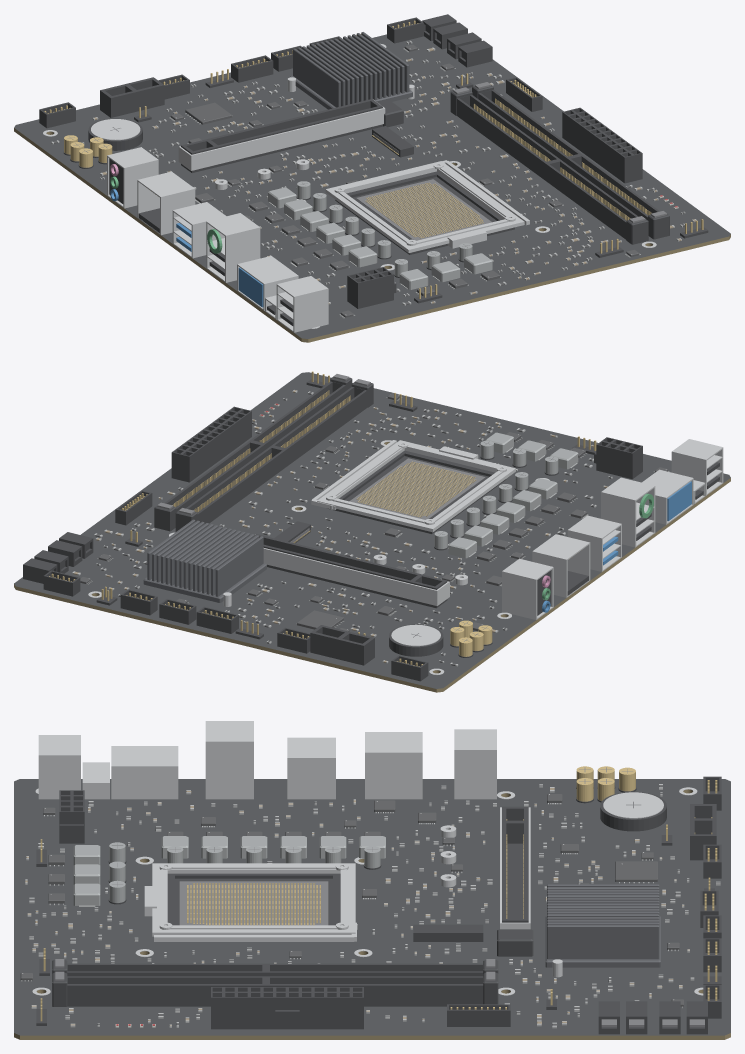
The model's file is L130_CompleteMotherboard.glb.
3 views of the same model, one above another, from view 1: azimuth 30°, elevation 25°; view 2: azimuth 150°, elevation 25°; view 3: azimuth 270°, elevation 25° (orthographic). The views are drawn at different scales.
Visible parts, largest first — view 1: PCB, Plastic, Steel, Gold, Heatsink, Aluminum, Pad, Chip, Solder, FR4, Ceramic, Blue; view 2: PCB, Plastic, Steel, Gold, Heatsink, Aluminum, Pad, Chip, Solder, FR4, Ceramic, Blue; view 3: PCB, Plastic, Steel, Heatsink, Aluminum, Gold, Pad, Solder, Chip, FR4, Ceramic.
Boxes of the visible parts, <box> form: PCB: <box>14,34,730,338</box>; Plastic: <box>39,14,708,325</box>; Steel: <box>43,43,656,332</box>; Gold: <box>44,20,703,298</box>; Heatsink: <box>289,32,412,109</box>; Aluminum: <box>268,181,492,289</box>; Pad: <box>67,82,666,263</box>; Chip: <box>53,41,684,317</box>; Solder: <box>51,40,696,318</box>; FR4: <box>14,128,730,342</box>; Ceramic: <box>94,48,695,304</box>; Blue: <box>110,189,263,307</box>; PCB: <box>14,372,730,688</box>; Plastic: <box>23,377,719,681</box>; Steel: <box>88,439,723,674</box>; Gold: <box>49,371,596,666</box>; Heatsink: <box>143,519,266,602</box>; Aluminum: <box>434,432,578,558</box>; Pad: <box>157,374,555,641</box>; Chip: <box>80,392,667,665</box>; Solder: <box>72,390,669,666</box>; FR4: <box>14,442,730,692</box>; Ceramic: <box>73,390,607,662</box>; Blue: <box>542,481,691,612</box>; PCB: <box>14,779,730,1035</box>; Plastic: <box>36,776,721,1034</box>; Steel: <box>32,721,703,995</box>; Heatsink: <box>545,884,660,967</box>; Aluminum: <box>73,836,385,905</box>; Gold: <box>40,766,717,1021</box>; Pad: <box>55,767,704,1026</box>; Solder: <box>21,784,720,1028</box>; Chip: <box>20,784,720,1026</box>; FR4: <box>14,789,730,1039</box>; Ceramic: <box>25,788,689,1025</box>.
Size of the model in its own units: 0.2012 by 0.0226 by 0.2362.
